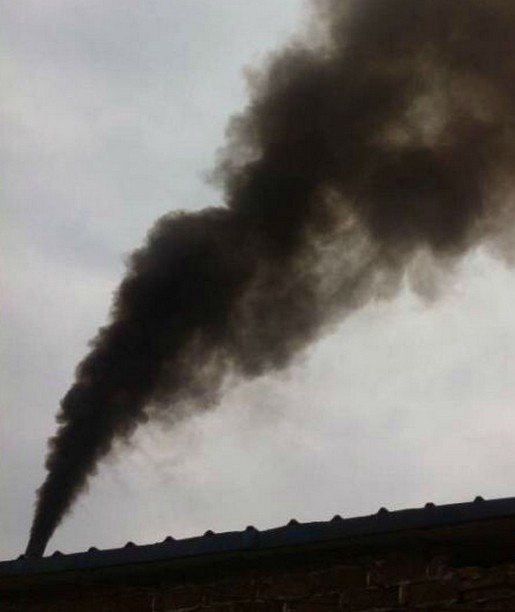dust: (19, 296, 171, 560)
